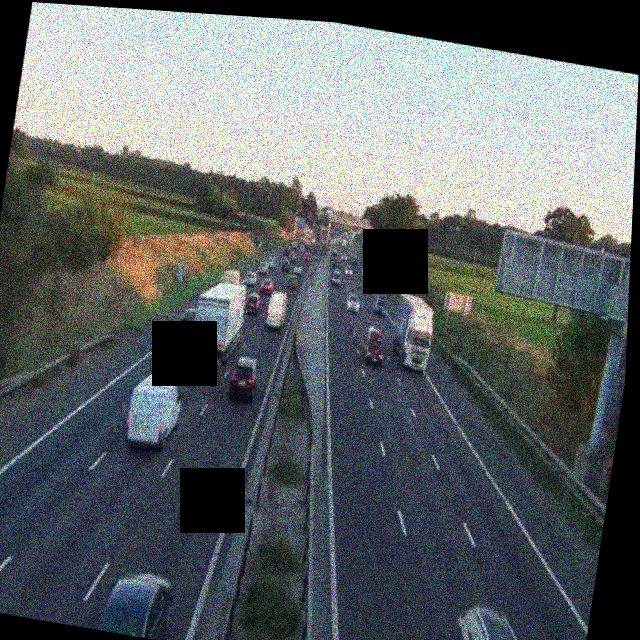car: (96, 566, 176, 640), (445, 599, 546, 640), (227, 353, 261, 402), (361, 326, 387, 366), (177, 307, 199, 337), (245, 289, 262, 315), (344, 291, 361, 313), (372, 294, 387, 313), (259, 276, 274, 294), (284, 273, 298, 291), (244, 269, 258, 287), (362, 280, 375, 296), (330, 270, 342, 286), (280, 258, 290, 272), (292, 262, 302, 275), (344, 264, 353, 278), (351, 251, 359, 265)
truck: (188, 275, 252, 372), (384, 289, 438, 370), (262, 291, 288, 331), (220, 268, 241, 289)
